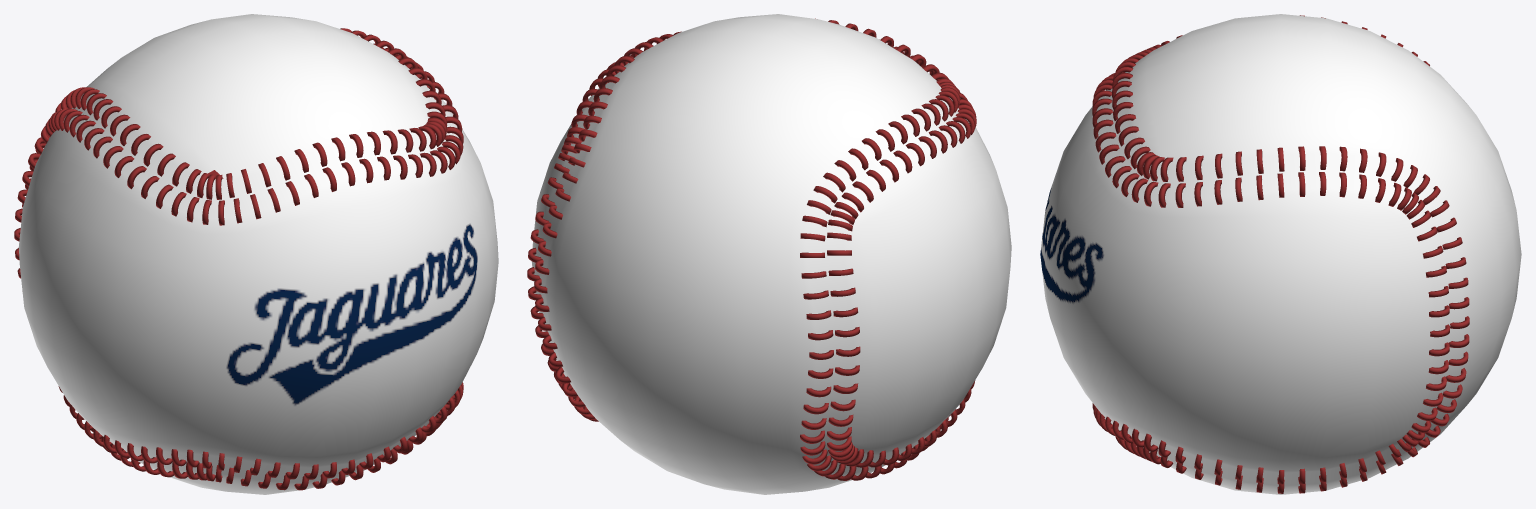
The model's file is pelotajaguares.glb.
The picture shows the model from 3 angles, left to right: view 1: azimuth 30°, elevation 25°; view 2: azimuth 150°, elevation 25°; view 3: azimuth 270°, elevation 25°; orthographic projection.
Parts seen in each view (by area): view 1: Cube.001, Cube.002; view 2: Cube.001, Cube.002; view 3: Cube.001, Cube.002.
Part boxes in pixels (x1=…): Cube.001: x1=18, y1=14, x2=498, y2=494; Cube.002: x1=14, y1=28, x2=463, y2=490; Cube.001: x1=531, y1=14, x2=1011, y2=494; Cube.002: x1=527, y1=18, x2=976, y2=480; Cube.001: x1=1040, y1=14, x2=1521, y2=494; Cube.002: x1=1092, y1=15, x2=1469, y2=493.
Bounding box in the file's own units: 0.0645 × 0.0645 × 0.0645.
Materials: 2 (1 with a texture image).
